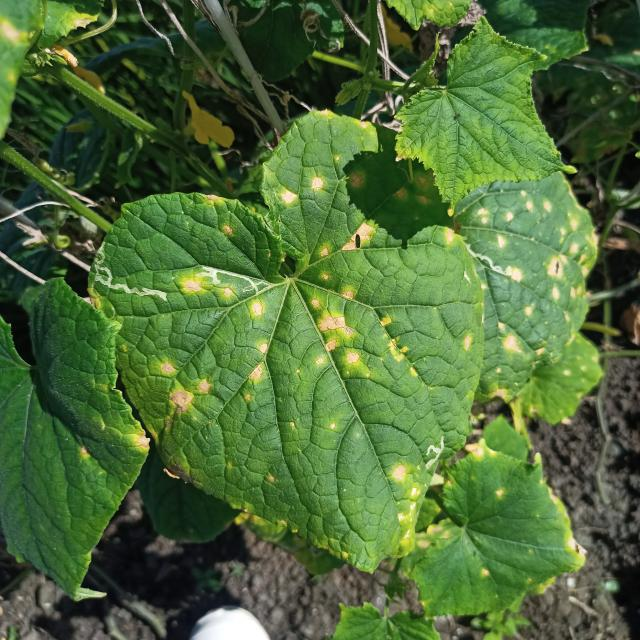disease_cucumber: (131, 164, 494, 454), (470, 180, 596, 381), (386, 459, 424, 536)
